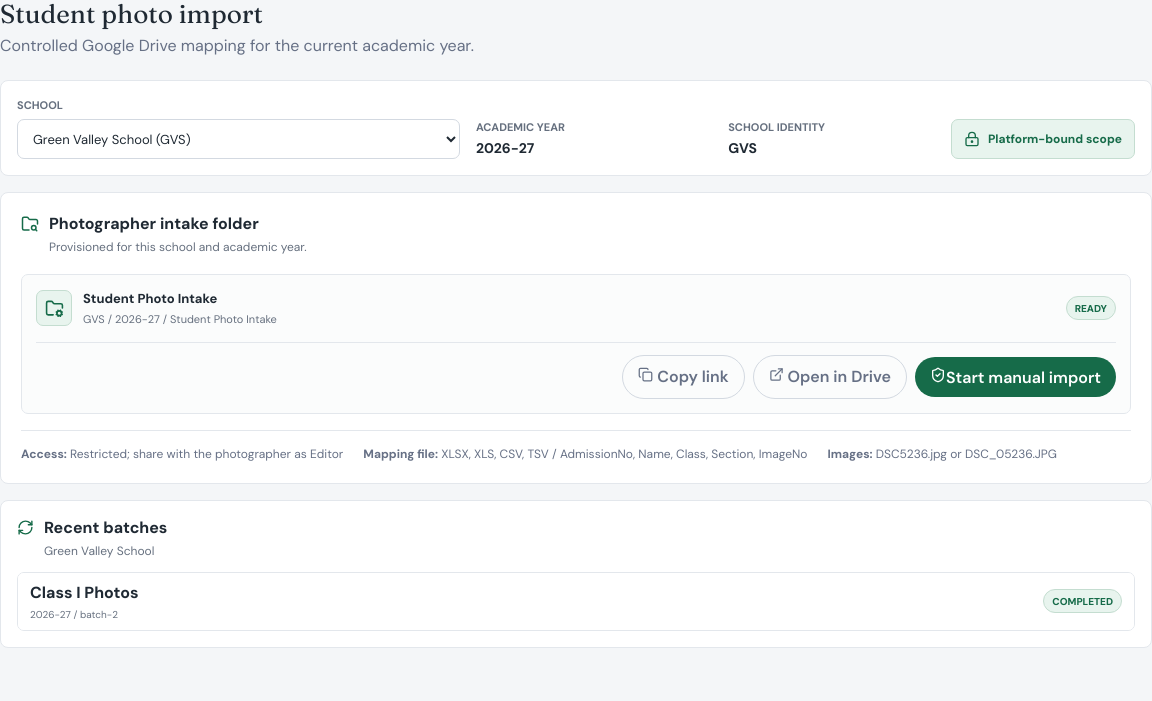
Test: PhotoImportPanel › restores applied photos in timeout-bounded chunks with current-photo protection
The width and height of the screenshot is (1152, 701).
Click the button "Class I Photos 2026-27 / batch-2 COMPLETED" at coordinates (84, 592), box [18, 573, 1134, 630]
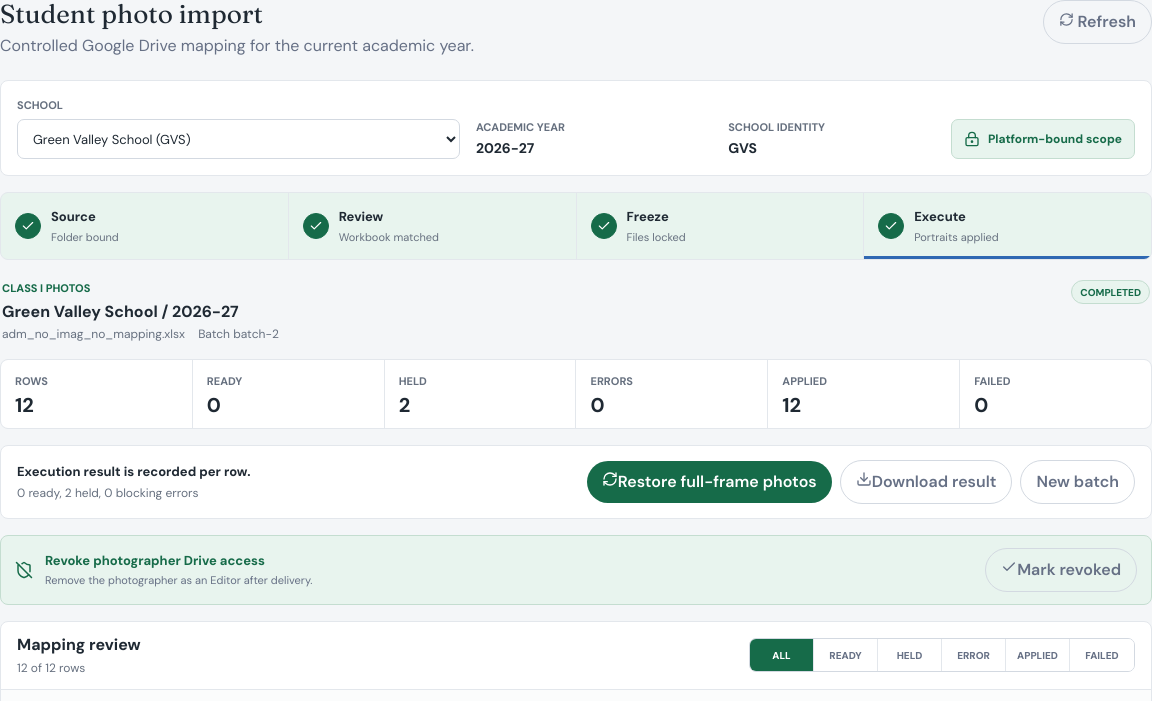
Click the button "Restore full-frame photos" at coordinates (709, 482), box [587, 461, 832, 503]
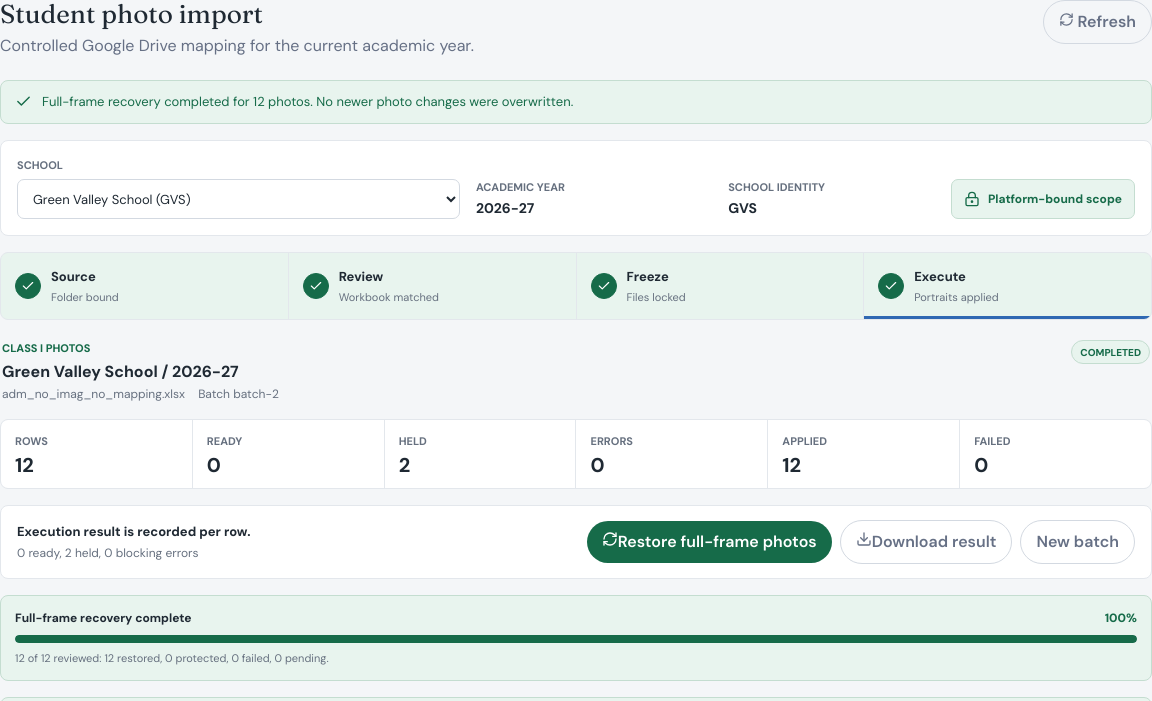
Expected: the text "Full-frame recovery completed for 12 photos" is shown, [42, 93, 573, 110]
Expected: the text "12 of 12 reviewed" is shown, [15, 651, 329, 665]
